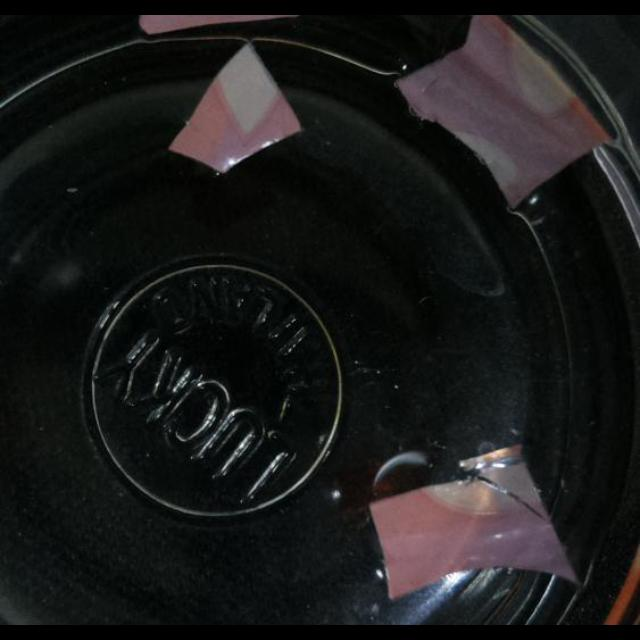Fragment: (398, 18, 608, 206), (365, 446, 577, 600), (164, 42, 304, 175)
